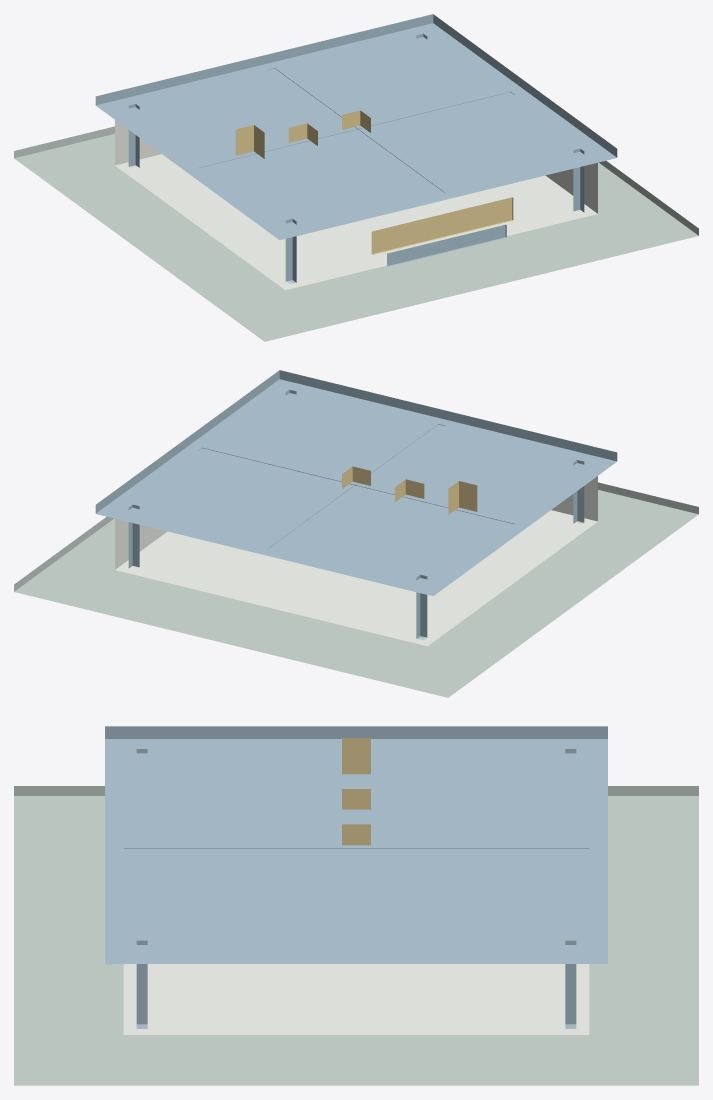
File: grocery_store.glb
3 views of the same model, one above another, from view 1: azimuth 30°, elevation 25°; view 2: azimuth 150°, elevation 25°; view 3: azimuth 270°, elevation 25° (orthographic). The views are drawn at different scales.
Parts seen in each view (by area): view 1: Roof, Foundation, Walls, Details, Frame; view 2: Roof, Foundation, Walls, Frame, Details; view 3: Roof, Foundation, Walls, Details, Frame.
Part boxes in pixels (<box>): Roof: <box>95,14,617,240</box>; Foundation: <box>14,126,698,341</box>; Walls: <box>115,120,597,290</box>; Details: <box>235,110,513,266</box>; Frame: <box>128,33,584,283</box>; Roof: <box>95,370,617,596</box>; Foundation: <box>14,482,698,697</box>; Walls: <box>115,476,597,646</box>; Frame: <box>128,389,584,639</box>; Details: <box>342,466,477,514</box>; Roof: <box>105,726,607,963</box>; Foundation: <box>14,786,698,1085</box>; Walls: <box>123,964,589,1034</box>; Details: <box>108,738,370,964</box>; Frame: <box>123,749,589,1028</box>.
Size of the model in its own units: 40 by 8.1 by 40.
